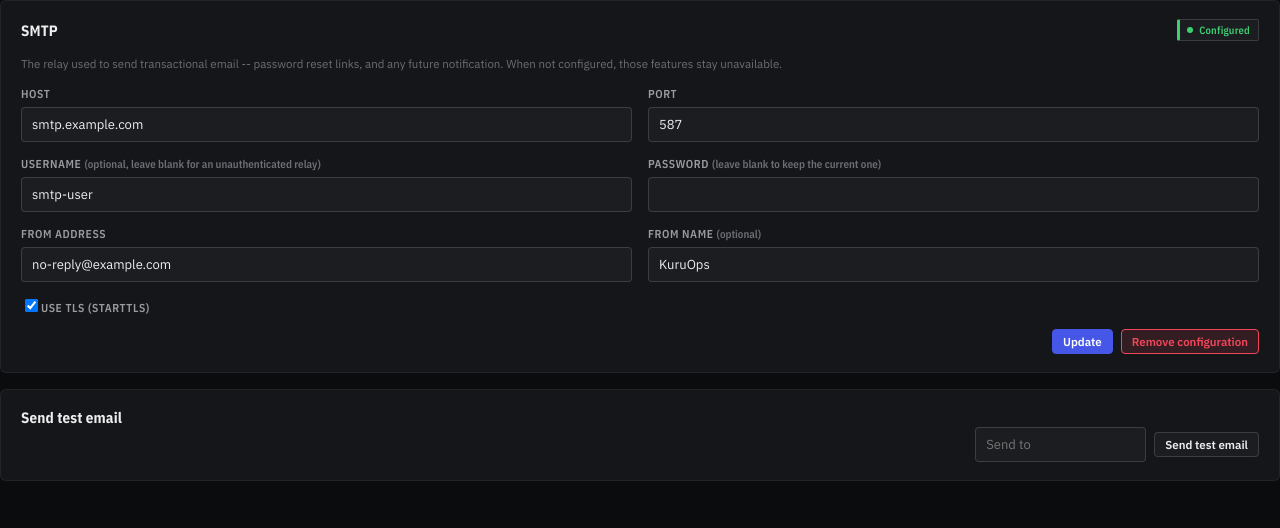
it: SMTPConfigPanel › sending a test email POSTs to the test endpoint and shows the result
In the field with placeholder "Send to": {"x": 1061, "y": 445} [975, 427, 1146, 462], type "someone@example.com"
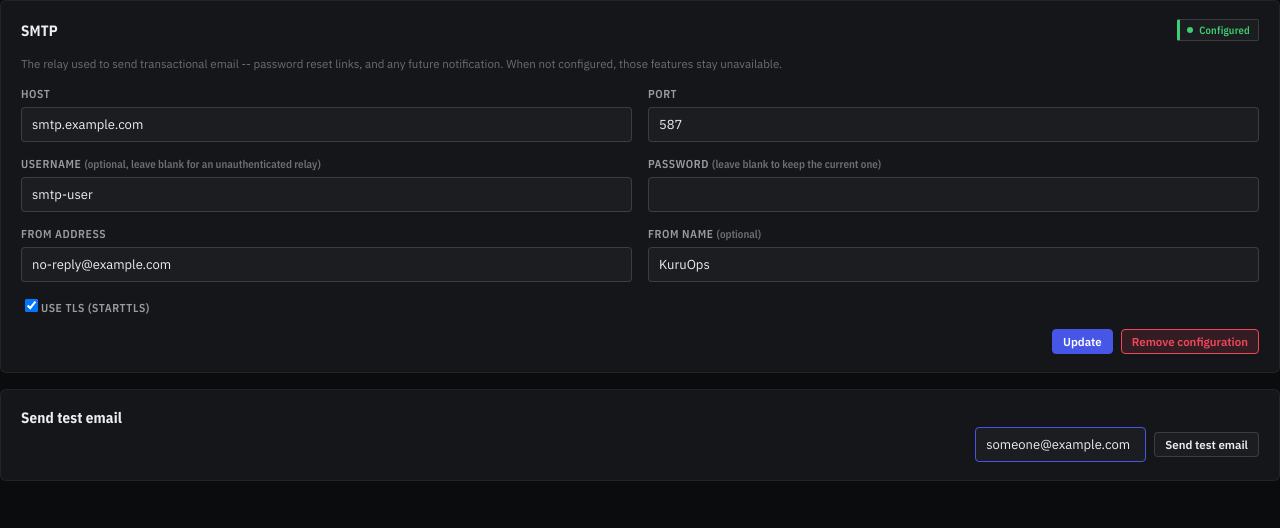
Click the button "Send test email": {"x": 1207, "y": 445} [1154, 432, 1259, 457]
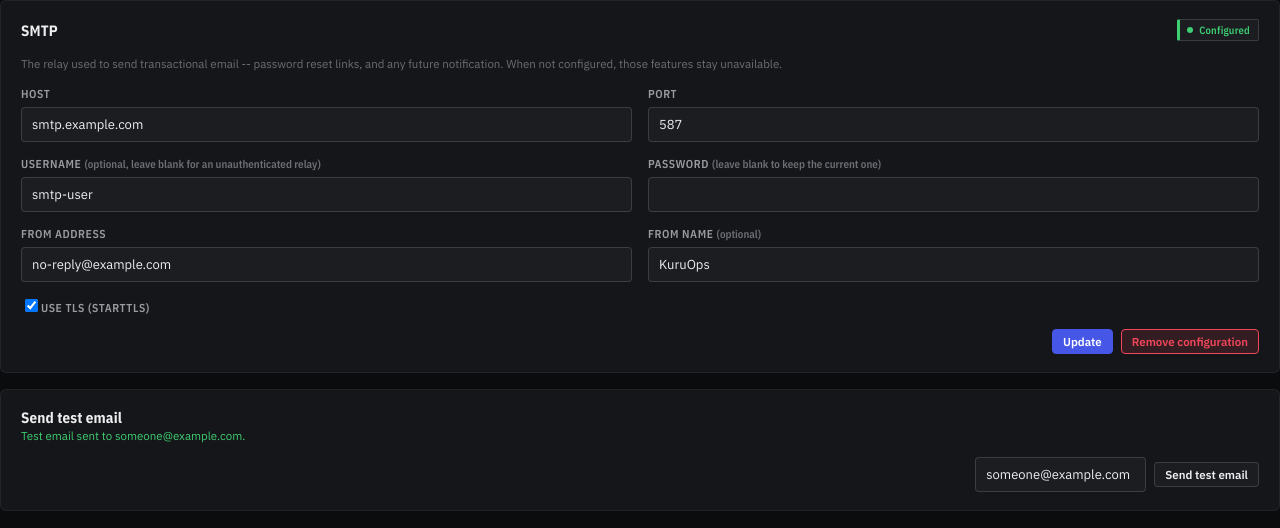
Now the text "Test email sent to someone@example.com." is shown, box [21, 428, 245, 443]
